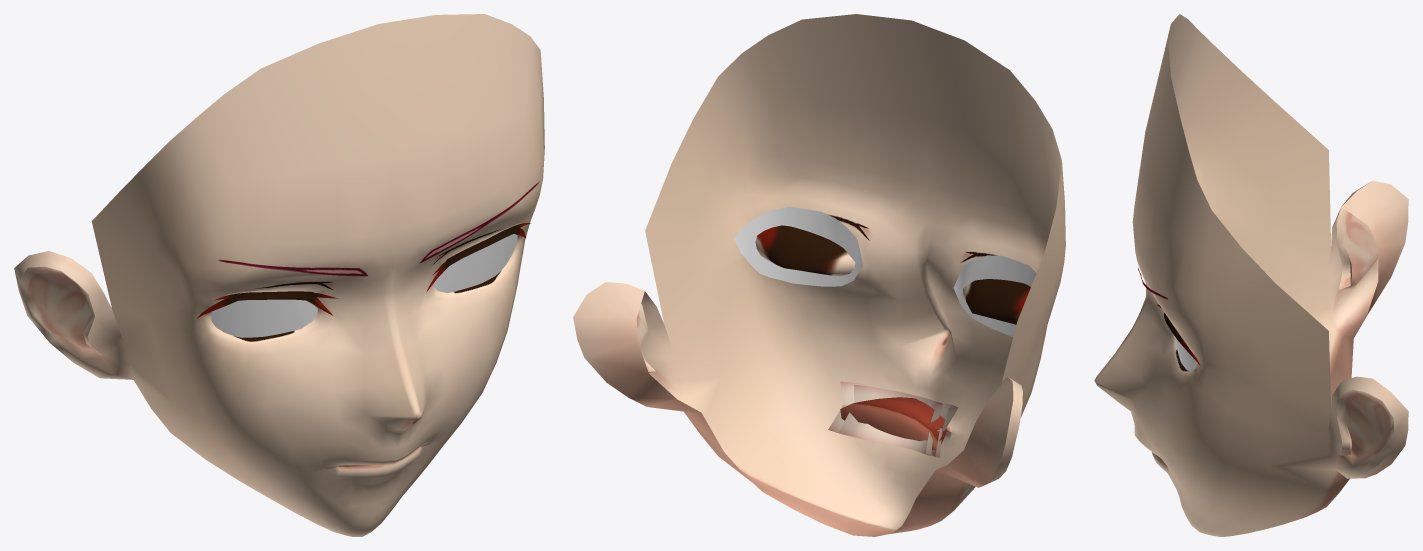
Rendered from Kohaku.fbx.
3 renders of one model, left to right at view 1: azimuth 30°, elevation 25°; view 2: azimuth 150°, elevation 25°; view 3: azimuth 270°, elevation 25°, orthographic. The views are drawn at different scales.
Visible parts, largest first — view 1: M_Head, M_Eye_B_Def, M_Mth_B_Def, M_PupALL_R_A_Def, M_PupALL_L_A_Def, M_Brw_B_Def; view 2: M_Head, M_Eye_B_Def, M_Mth_B_Def, M_PupALL_L_A_Def, M_PupALL_R_A_Def; view 3: M_Head, M_Eye_B_Def, M_Mth_B_Def.
Boxes of the visible parts, x1,y1,x2,y2 form: M_Head: (14, 14, 544, 419); M_Eye_B_Def: (157, 153, 544, 428); M_Mth_B_Def: (134, 364, 495, 536); M_PupALL_R_A_Def: (210, 299, 317, 337); M_PupALL_L_A_Def: (434, 234, 517, 293); M_Brw_B_Def: (217, 181, 539, 276); M_Head: (573, 14, 1065, 487); M_Eye_B_Def: (706, 155, 1065, 417); M_Mth_B_Def: (684, 330, 997, 536); M_PupALL_L_A_Def: (734, 206, 862, 286); M_PupALL_R_A_Def: (953, 255, 1036, 336); M_Head: (1132, 14, 1408, 478); M_Eye_B_Def: (1094, 130, 1229, 462); M_Mth_B_Def: (1094, 329, 1353, 536).
Size of the model in its own units: 0.1778 by 0.1887 by 0.1099.
Materials: 5 (3 with a texture image).
